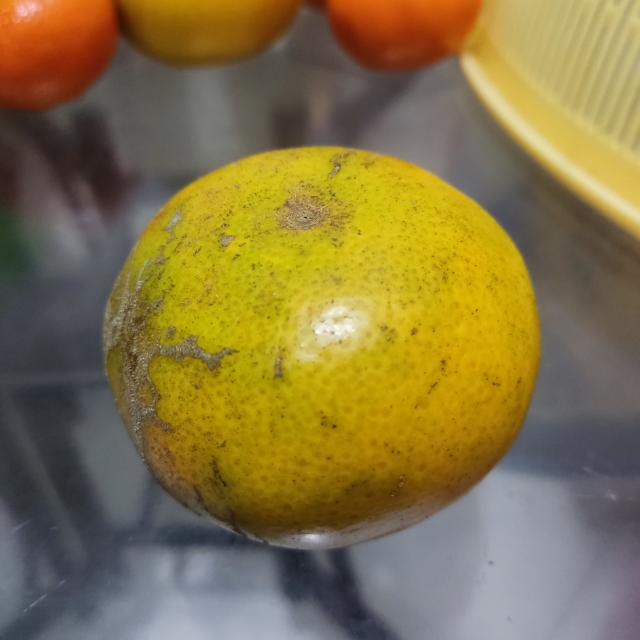orange: (100, 146, 540, 553)
